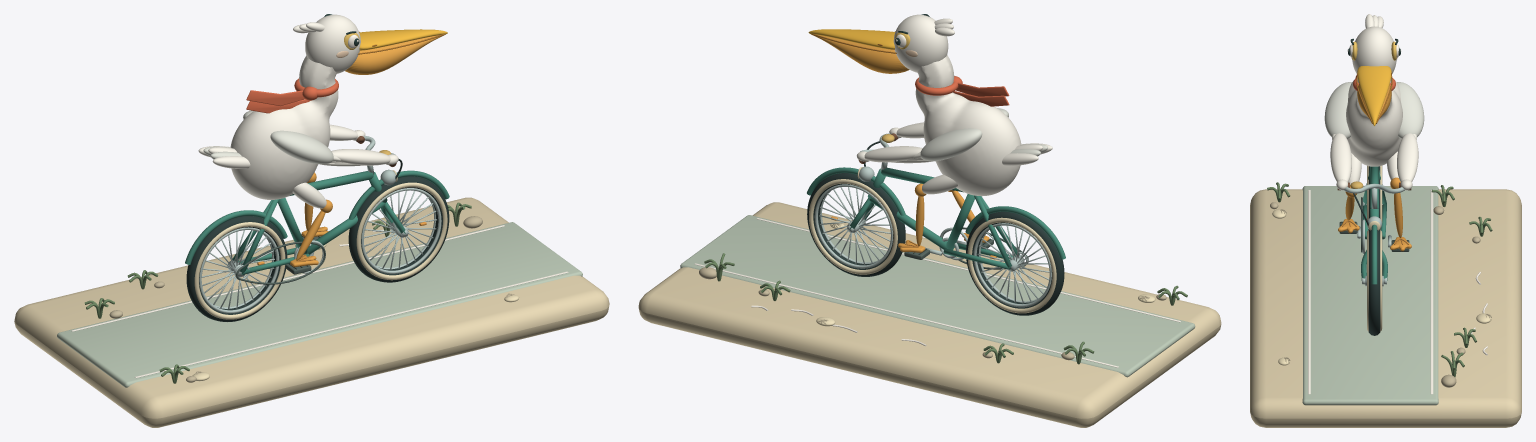
The model's file is pelican.glb.
3 renders of one model, left to right at view 1: azimuth 30°, elevation 25°; view 2: azimuth 150°, elevation 25°; view 3: azimuth 270°, elevation 25°, orthographic. The views are drawn at different scales.
Visible parts, largest first — view 1: Sand island, Raised coastal cycle path, Continuous pelican body and neck, Mint enamel frame, Polished wheel rim.002, Polished wheel rim, Pelican head, Charcoal rubber tire.001, Charcoal rubber tire, Ivory path edge, Layered tail feather.001, Deep pelican throat pouch (+6 smaller); view 2: Sand island, Raised coastal cycle path, Continuous pelican body and neck, Mint enamel frame, Polished wheel rim.002, Polished wheel rim, Pelican head, Charcoal rubber tire, Charcoal rubber tire.001, Ivory path edge, Layered tail feather.001, Deep pelican throat pouch (+7 smaller); view 3: Sand island, Raised coastal cycle path, Continuous pelican body and neck, Layered tail feather.001, Pelican head, Ivory path edge, Mint enamel frame, Long golden upper bill, Charcoal rubber tire.001, Dune grass, Wheel axle nut, Cream tire sidewall.002 (+4 smaller).
Boxes of the visible parts, <box> form: Sand island: <box>14,197,609,427</box>; Raised coastal cycle path: <box>57,222,582,387</box>; Continuous pelican body and neck: <box>198,55,398,199</box>; Mint enamel frame: <box>185,170,449,274</box>; Polished wheel rim.002: <box>361,188,441,273</box>; Polished wheel rim: <box>199,227,279,313</box>; Pelican head: <box>293,14,360,73</box>; Charcoal rubber tire.001: <box>348,176,449,282</box>; Charcoal rubber tire: <box>186,216,287,321</box>; Ivory path edge: <box>71,225,568,377</box>; Layered tail feather.001: <box>203,110,333,164</box>; Deep pelican throat pouch: <box>345,34,445,74</box>; Sand island: <box>638,202,1221,427</box>; Raised coastal cycle path: <box>680,215,1195,377</box>; Continuous pelican body and neck: <box>856,55,1052,196</box>; Mint enamel frame: <box>807,167,1065,269</box>; Polished wheel rim.002: <box>814,184,892,268</box>; Polished wheel rim: <box>973,223,1051,307</box>; Pelican head: <box>893,14,954,72</box>; Charcoal rubber tire: <box>966,211,1064,315</box>; Charcoal rubber tire.001: <box>807,173,905,276</box>; Ivory path edge: <box>694,218,1180,367</box>; Layered tail feather.001: <box>920,108,1047,161</box>; Deep pelican throat pouch: <box>810,33,909,73</box>; Sand island: <box>1250,189,1521,427</box>; Raised coastal cycle path: <box>1302,186,1438,405</box>; Continuous pelican body and neck: <box>1330,78,1418,190</box>; Layered tail feather.001: <box>1324,82,1424,138</box>; Pelican head: <box>1352,14,1396,73</box>; Ivory path edge: <box>1308,190,1487,394</box>; Mint enamel frame: <box>1361,166,1387,284</box>; Long golden upper bill: <box>1357,66,1391,125</box>; Charcoal rubber tire.001: <box>1368,229,1380,335</box>; Dune grass: <box>1267,182,1492,377</box>; Wheel axle nut: <box>1344,183,1404,284</box>; Cream tire sidewall.002: <box>1367,230,1382,331</box>.
Bounding box in the file's own units: 6.8 × 4.37 × 3.55.
